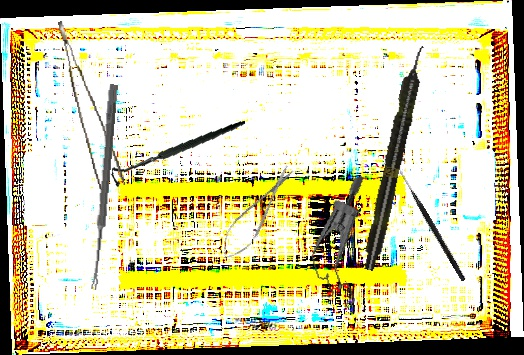Handpiece: (359, 43, 431, 273)
Hook Surgical: (110, 107, 245, 200), (396, 170, 468, 282)
Micro Scissor: (213, 159, 302, 267)
Speculum: (291, 175, 398, 315)
Surgical Spoon: (90, 83, 118, 291)
Tissue Forceps: (57, 15, 126, 192)
